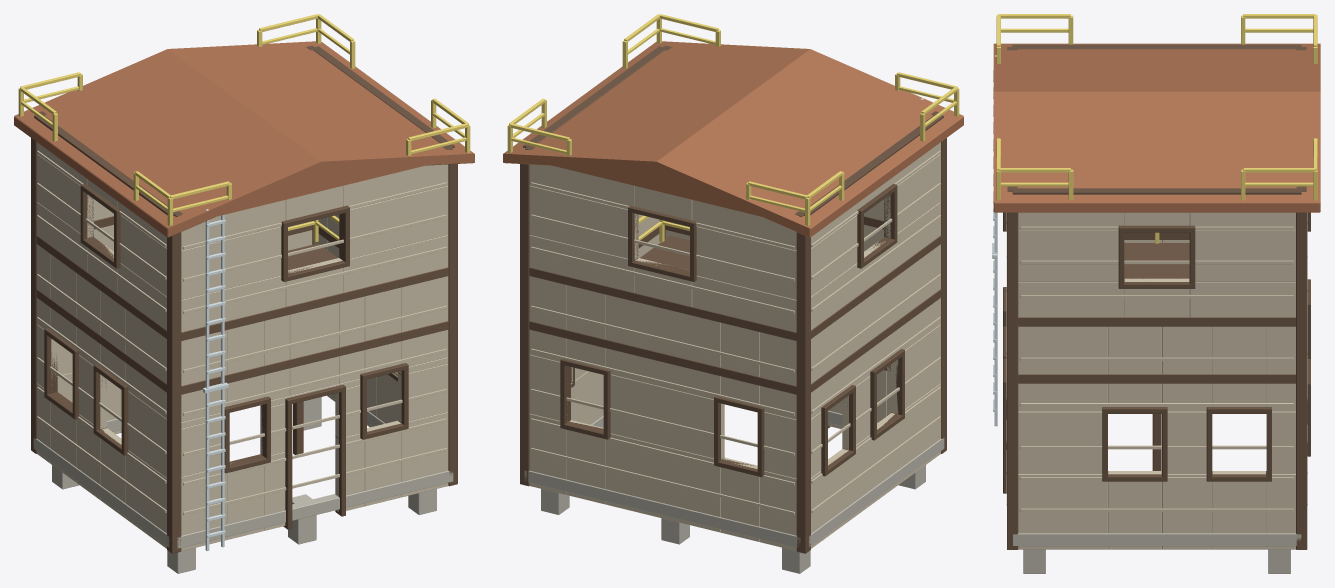
The model's file is house_rural.fbx.
3 renders of one model, left to right at view 1: azimuth 30°, elevation 25°; view 2: azimuth 150°, elevation 25°; view 3: azimuth 270°, elevation 25°, orthographic. The views are drawn at different scales.
Parts seen in each view (by area): view 1: HouseRuralMesh.001; view 2: HouseRuralMesh.001; view 3: HouseRuralMesh.001.
Boxes of the visible parts, left/top/right/bottom form: HouseRuralMesh.001: left=14, top=14, right=474, bottom=573; HouseRuralMesh.001: left=503, top=14, right=963, bottom=573; HouseRuralMesh.001: left=992, top=14, right=1320, bottom=573.
Size of the model in its own units: 1524 by 1326 by 1852.
